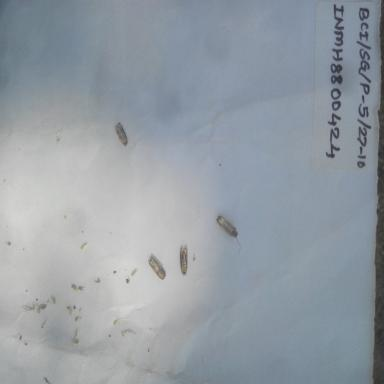pbw: (139, 252, 175, 286), (214, 210, 240, 244), (174, 242, 194, 278), (113, 122, 132, 153)
